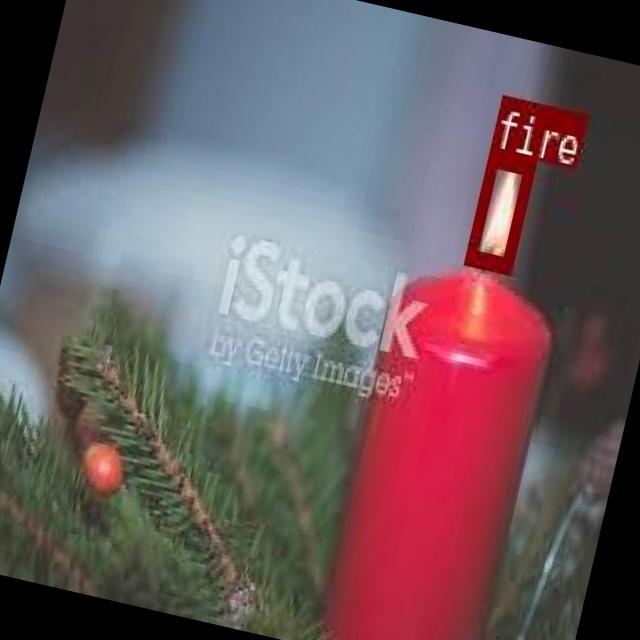fire: (463, 147, 534, 272)
